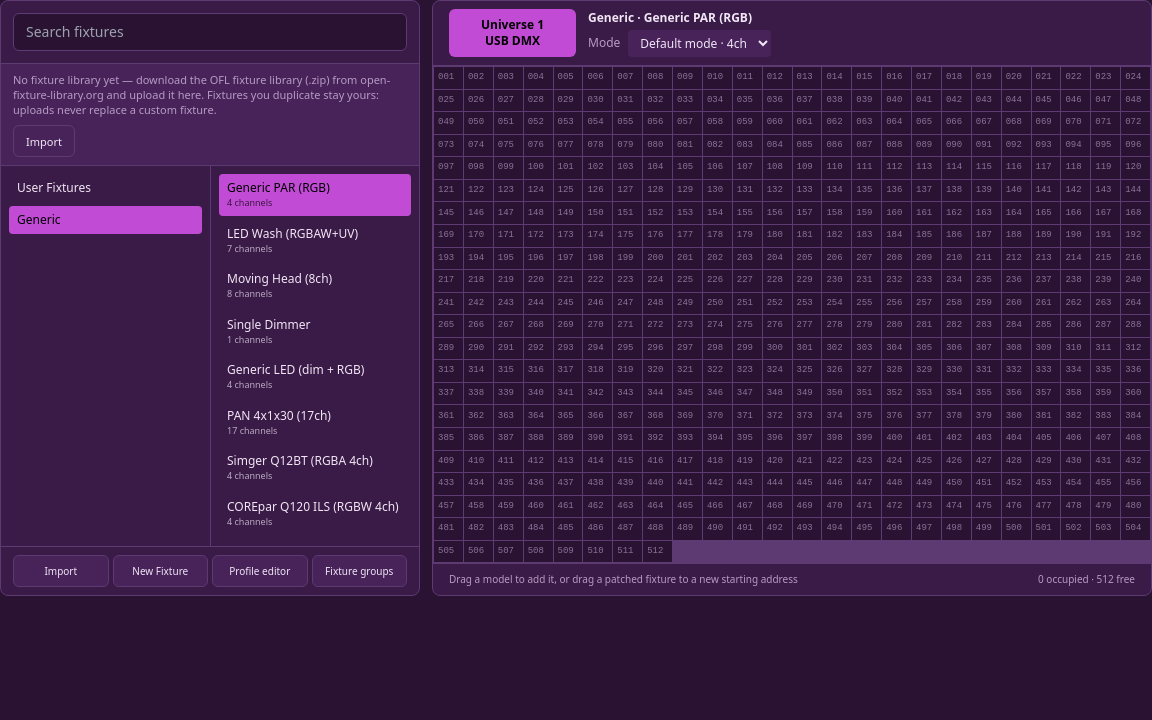
PatchPanel fixture library › 'New Fixture' from scratch creates a custom fixture listed under User Fixtures
Later steps or results of the test are not shown.
Click the button "New Fixture" at (160, 571), box [112,555,208,587]
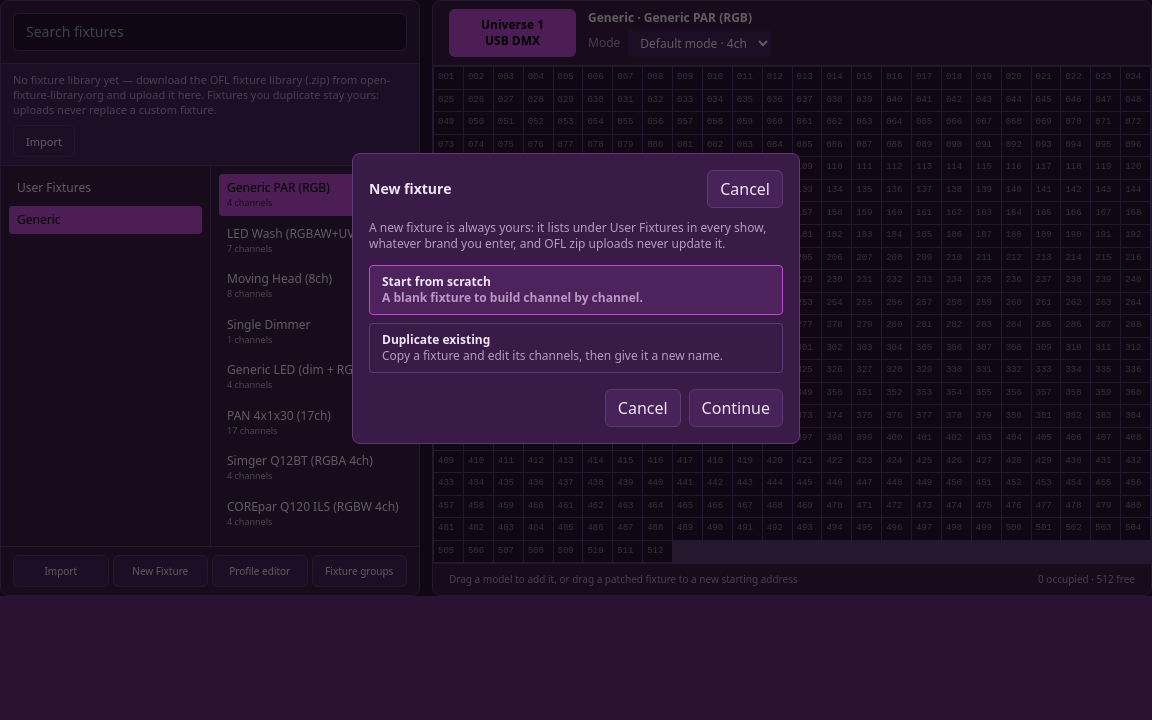
Now the dialog named "New fixture" is shown
Click the button "Continue" at (736, 408), box [689,389,783,427]
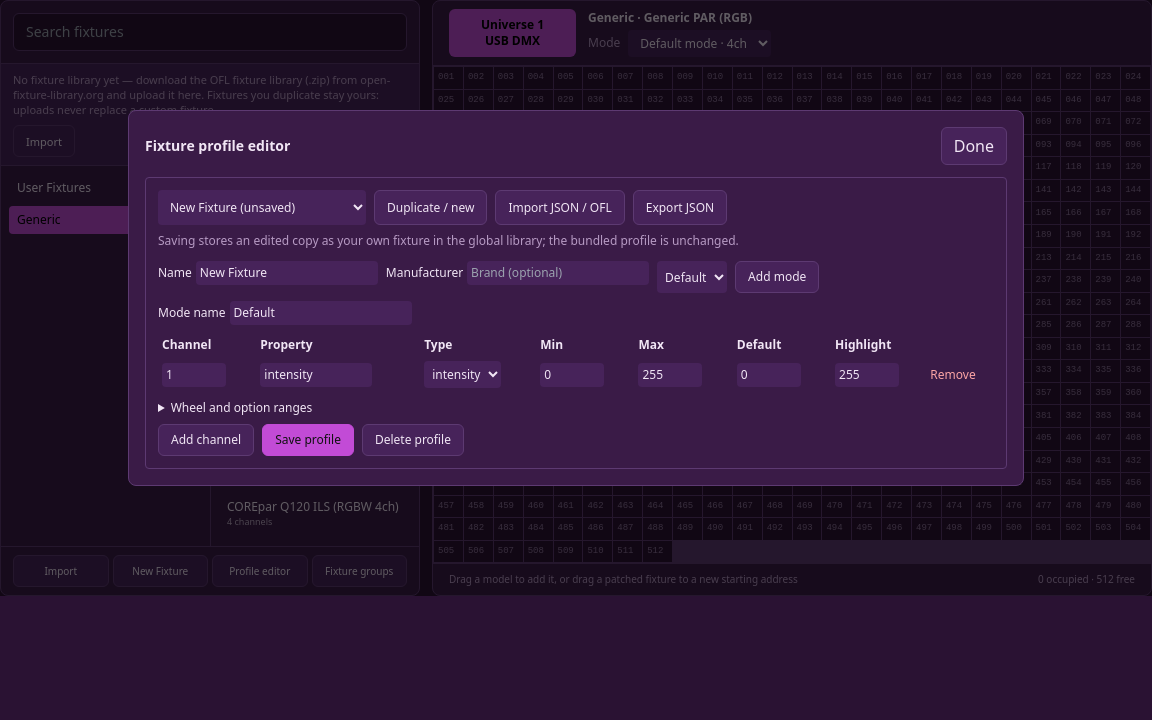
Now the dialog named "Fixture profile editor" is shown
Now the field named "Profile name" holds "New Fixture", box [196,261,378,285]
Now the button "Save profile" is shown, box [262,424,354,456]
